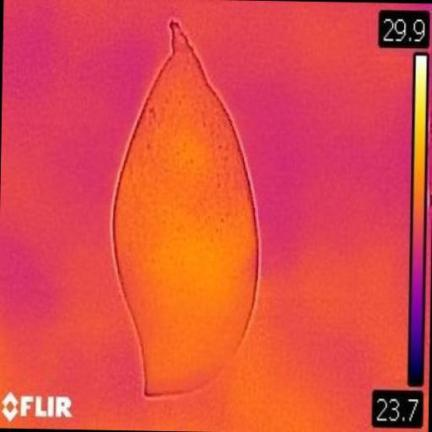mango: (112, 21, 258, 394)
